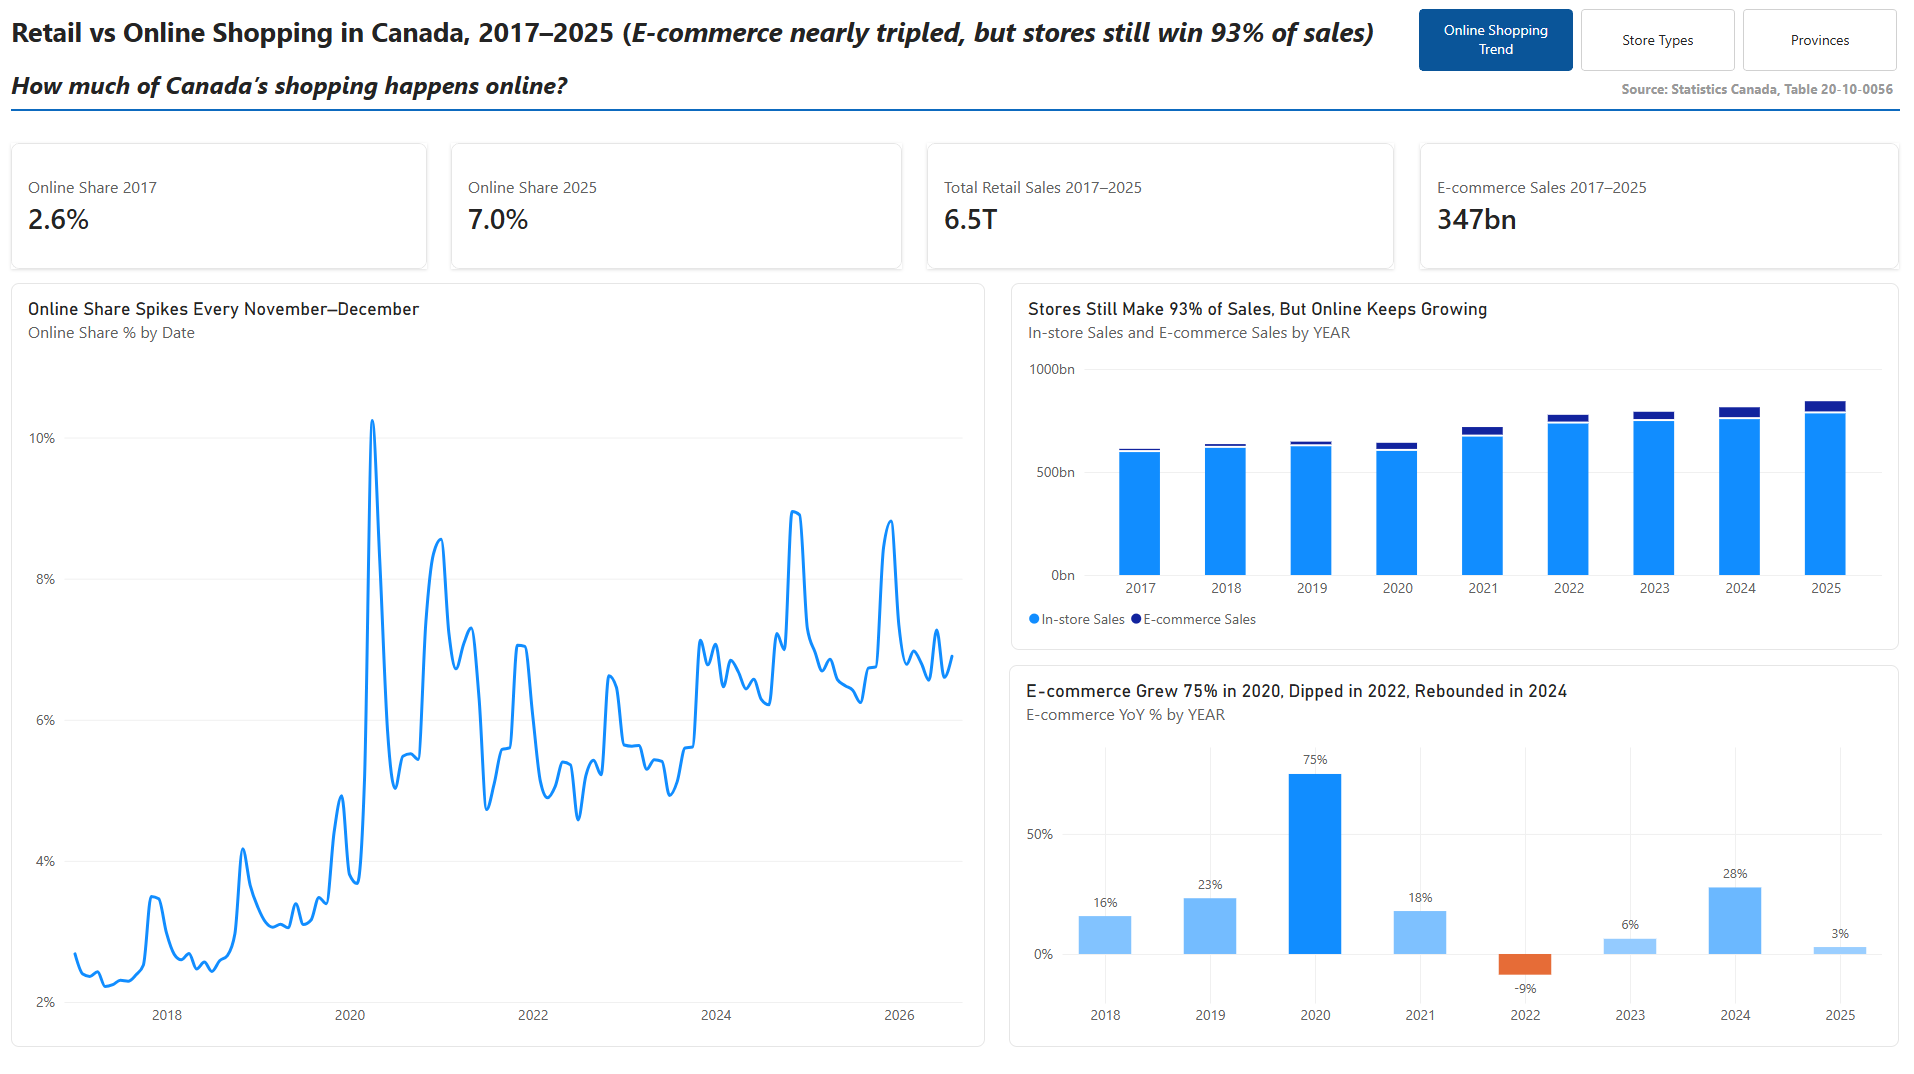

What the dashboard file says about the page in this screenshot:
{"tool":"powerbi","page":{"name":"Online Shopping Trend","canvas":[1920,1080],"ordinal":0},"visuals":[{"type":"cardVisual","fields":{"Data":["Retail_Sales.Online Share %"]},"box":[16.3,145.1,415.6,125.5],"z":0},{"type":"cardVisual","fields":{"Data":["Retail_Sales.Online Share %"]},"box":[455.9,144.7,451.2,126],"z":1000},{"type":"cardVisual","fields":{"Data":["Retail_Sales.Total Retail Sales"]},"box":[932,144.7,466.8,126],"z":2000},{"type":"lineChart","title":"Online Share Spikes Every November–December","fields":{"Category":["Calendar.Date"],"Y":["Retail_Sales.Online Share %"]},"box":[15.6,284.7,974,764],"z":3000},{"type":"clusteredColumnChart","title":"E-commerce Grew 75% in 2020, Dipped in 2022, Rebounded in 2024","fields":{"Category":["Calendar.YEAR"],"Y":["Retail_Sales.E-commerce YoY %"]},"box":[1014.5,667.5,890,381.2],"z":4000},{"type":"textbox","box":[16.3,14.7,1903.7,97.8],"z":5000},{"type":"shape","box":[15.6,43.6,1889,136.9],"z":6000},{"type":"cardVisual","fields":{"Data":["Retail_Sales.E-commerce Sales"]},"box":[1425.2,144.7,479.2,126],"z":7000},{"type":"columnChart","title":"Stores Still Make 93% of Sales, But Online Keeps Growing","fields":{"Category":["Calendar.YEAR"],"Y":["Retail_Sales.In-store Sales","Retail_Sales.E-commerce Sales"]},"box":[1016,284.7,888.4,367.2],"z":8000},{"type":"pageNavigator","box":[1424.3,10.7,478.5,62.3],"z":9000},{"type":"shape","box":[1906.6,0,13.8,115.2],"z":9001}]}

Visuals, with their boxes in screenshot pixels (x1, y1, x2, y2), scaled from the page's 1920x1080 canvas onto the 1914x1074 screenshot:
cardVisual - Retail_Sales.Online Share %: x1=16, y1=144, x2=431, y2=269
cardVisual - Retail_Sales.Online Share %: x1=454, y1=144, x2=904, y2=269
cardVisual - Retail_Sales.Total Retail Sales: x1=929, y1=144, x2=1394, y2=269
"Online Share Spikes Every November–December" lineChart: x1=16, y1=283, x2=987, y2=1043
"E-commerce Grew 75% in 2020, Dipped in 2022, Rebounded in 2024" clusteredColumnChart: x1=1011, y1=664, x2=1899, y2=1043
textbox: x1=16, y1=15, x2=1913, y2=112
shape: x1=16, y1=43, x2=1899, y2=179
cardVisual - Retail_Sales.E-commerce Sales: x1=1421, y1=144, x2=1898, y2=269
"Stores Still Make 93% of Sales, But Online Keeps Growing" columnChart: x1=1013, y1=283, x2=1898, y2=648
pageNavigator: x1=1420, y1=11, x2=1897, y2=73
shape: x1=1901, y1=0, x2=1913, y2=115
